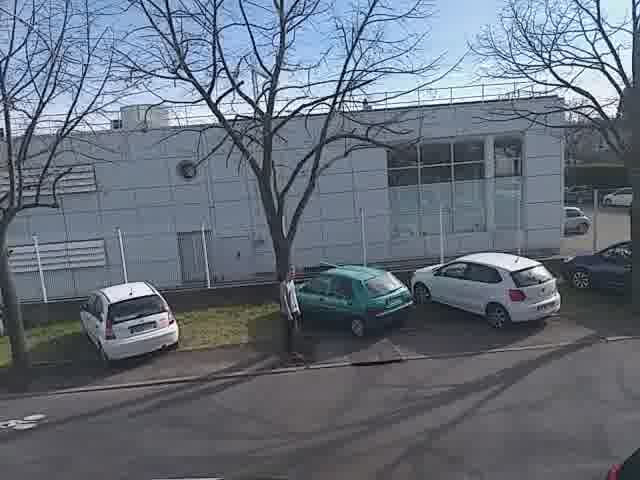persona: (271, 264, 306, 369)
